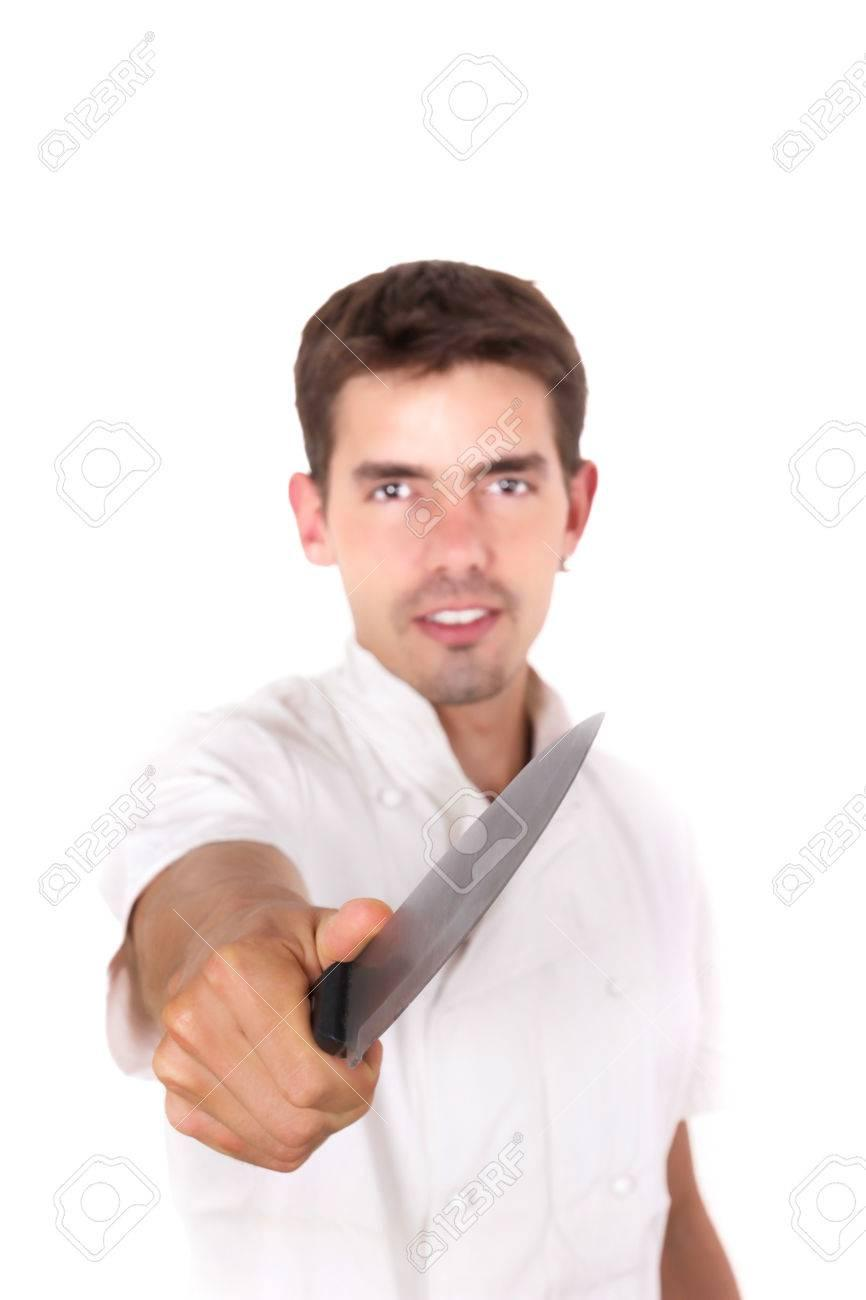Knife: (100, 262, 740, 1300), (333, 712, 603, 1062), (153, 902, 402, 1172)
